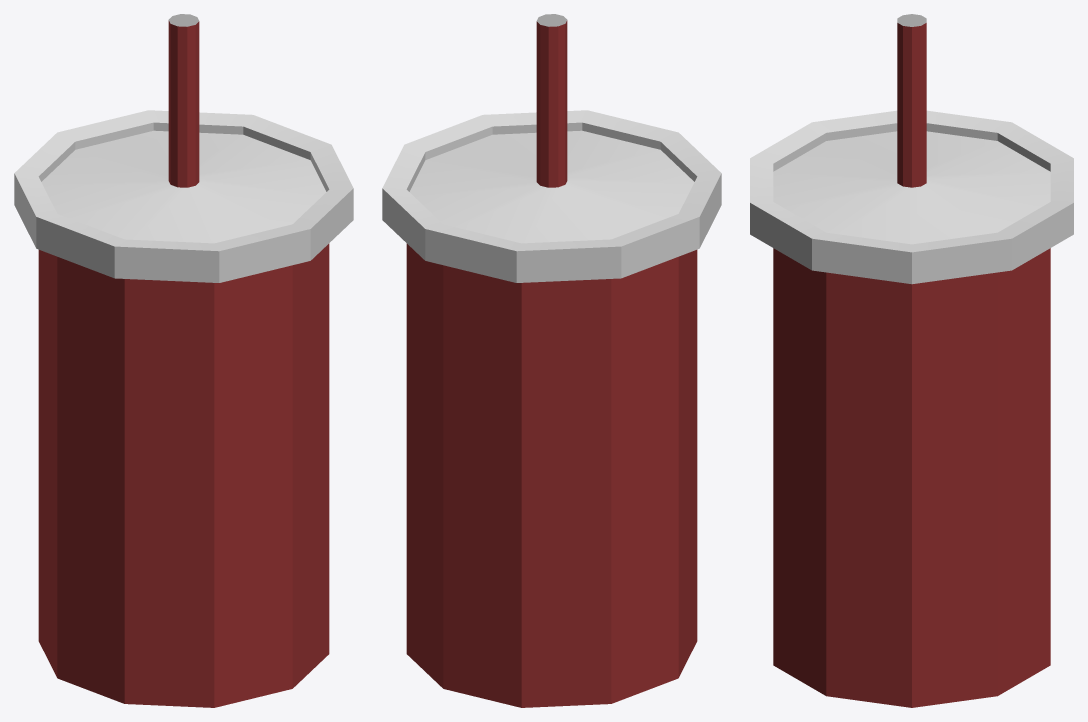
File: Milkshake.fbx
The picture shows the model from 3 angles, left to right: view 1: azimuth 30°, elevation 25°; view 2: azimuth 150°, elevation 25°; view 3: azimuth 270°, elevation 25°; orthographic projection.
Parts seen in each view (by area): view 1: milkshake; view 2: milkshake; view 3: milkshake.
Boxes of the visible parts, x1,y1,x2,y2 form: milkshake: [14, 14, 353, 707]; milkshake: [382, 14, 721, 707]; milkshake: [750, 14, 1073, 707].
Bounding box in the file's own units: 2.23 × 4.52 × 2.12.
